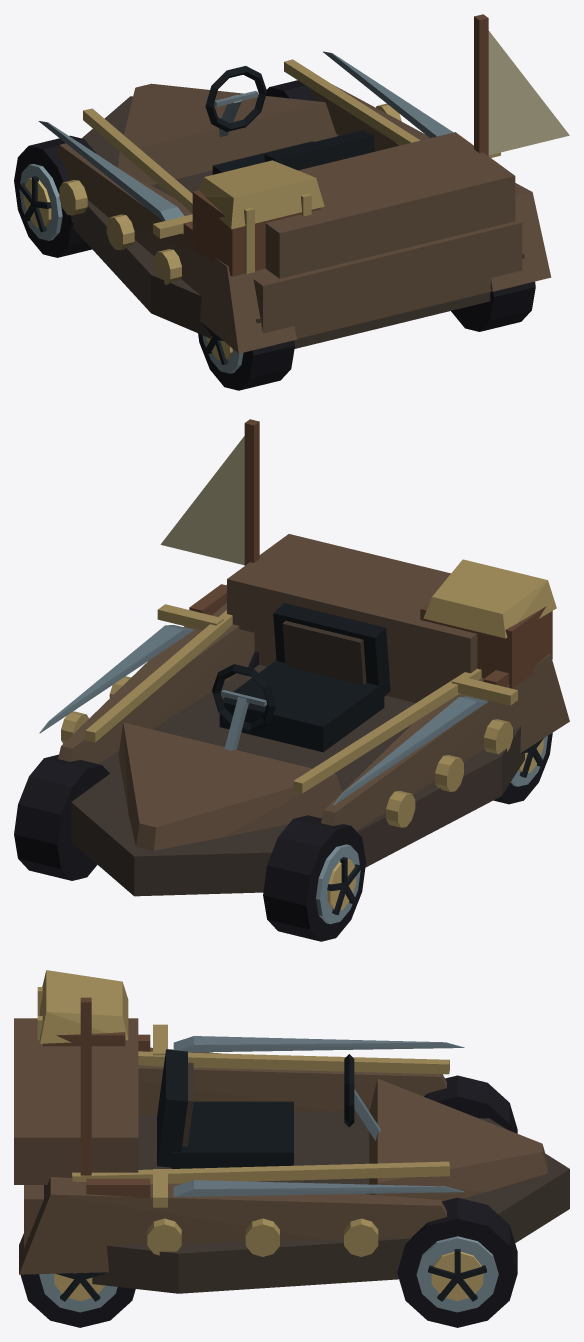
Rendered from kart.glb.
The picture shows the model from 3 angles, top to bottom: view 1: azimuth 30°, elevation 25°; view 2: azimuth 150°, elevation 25°; view 3: azimuth 270°, elevation 25°; orthographic projection. The views are drawn at different scales.
Parts seen in each view (by area): view 1: identity-ship-ship-pointed-bow-and-raised-stern, identity-ship-motif-treasure, identity-ship-motif-sail, wheel-front-left, identity-ship-driver-cockpit, identity-ship-motif-swords, wheel-rear-left, wheel-rear-right, wheel-front-right; view 2: identity-ship-ship-pointed-bow-and-raised-stern, identity-ship-driver-cockpit, identity-ship-motif-treasure, wheel-front-left, identity-ship-motif-sail, identity-ship-motif-swords, wheel-front-right, wheel-rear-left; view 3: identity-ship-ship-pointed-bow-and-raised-stern, identity-ship-driver-cockpit, wheel-front-right, identity-ship-motif-swords, identity-ship-motif-treasure, wheel-rear-right, wheel-front-left, identity-ship-motif-sail.
Boxes of the visible parts, bbox=[...] form: identity-ship-ship-pointed-bow-and-raised-stern: bbox=[56, 59, 551, 353]; identity-ship-motif-treasure: bbox=[192, 160, 324, 276]; identity-ship-motif-sail: bbox=[474, 14, 569, 155]; wheel-front-left: bbox=[14, 135, 96, 257]; identity-ship-driver-cockpit: bbox=[205, 66, 374, 174]; identity-ship-motif-swords: bbox=[38, 51, 500, 240]; wheel-rear-left: bbox=[198, 323, 294, 390]; wheel-rear-right: bbox=[451, 281, 535, 331]; wheel-front-right: bbox=[266, 80, 316, 101]; identity-ship-ship-pointed-bow-and-raised-stern: bbox=[58, 534, 569, 896]; identity-ship-driver-cockpit: bbox=[212, 603, 390, 752]; identity-ship-motif-treasure: bbox=[420, 559, 556, 688]; wheel-front-left: bbox=[263, 815, 365, 941]; identity-ship-motif-sail: bbox=[160, 419, 259, 565]; identity-ship-motif-swords: bbox=[39, 584, 517, 804]; wheel-front-right: bbox=[14, 754, 109, 880]; wheel-rear-left: bbox=[493, 733, 552, 804]; identity-ship-ship-pointed-bow-and-raised-stern: bbox=[14, 1018, 569, 1293]; identity-ship-driver-cockpit: bbox=[157, 1049, 380, 1168]; wheel-front-right: bbox=[397, 1197, 517, 1327]; identity-ship-motif-swords: bbox=[86, 1024, 464, 1207]; identity-ship-motif-treasure: bbox=[37, 970, 128, 1046]; wheel-rear-right: bbox=[20, 1272, 135, 1327]; wheel-front-left: bbox=[424, 1075, 517, 1133]; identity-ship-motif-sail: bbox=[80, 997, 91, 1175].
Bounding box in the file's own units: 2.26 × 1.74 × 2.77.
